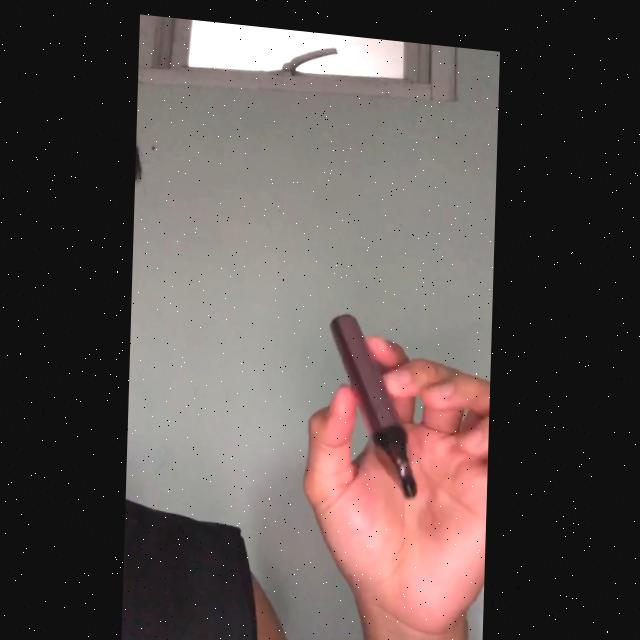vape: (328, 303, 425, 490)
